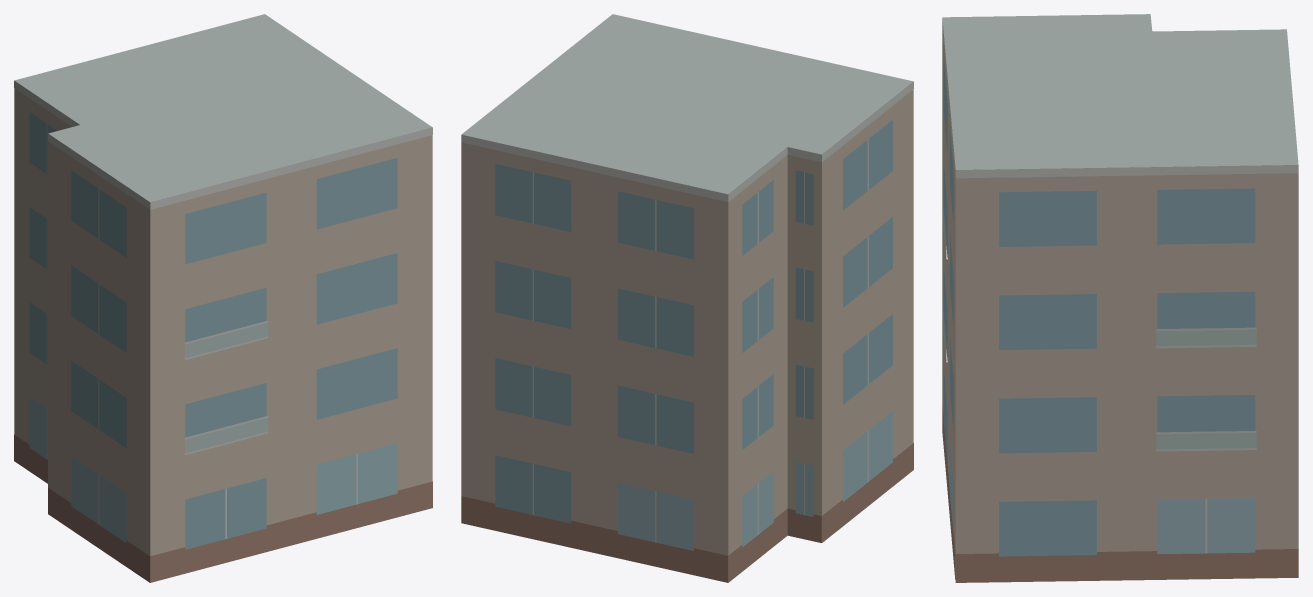
Rendered from residential-abb72344-4169-48dd-a8cf-43e99680cddc.glb.
The picture shows the model from 3 angles, left to right: view 1: azimuth 30°, elevation 25°; view 2: azimuth 150°, elevation 25°; view 3: azimuth 270°, elevation 25°; orthographic projection. The views are drawn at different scales.
Visible parts, largest first — view 1: residential-abb72344-4169-48dd-a8cf-43e99680cddc.tmp; view 2: residential-abb72344-4169-48dd-a8cf-43e99680cddc.tmp; view 3: residential-abb72344-4169-48dd-a8cf-43e99680cddc.tmp.
Part boxes in pixels (x1=…): residential-abb72344-4169-48dd-a8cf-43e99680cddc.tmp: x1=14, y1=14, x2=432, y2=582; residential-abb72344-4169-48dd-a8cf-43e99680cddc.tmp: x1=461, y1=14, x2=913, y2=582; residential-abb72344-4169-48dd-a8cf-43e99680cddc.tmp: x1=942, y1=14, x2=1298, y2=582.
Bounding box in the file's own units: 9.9 × 12.2 × 9.55.
